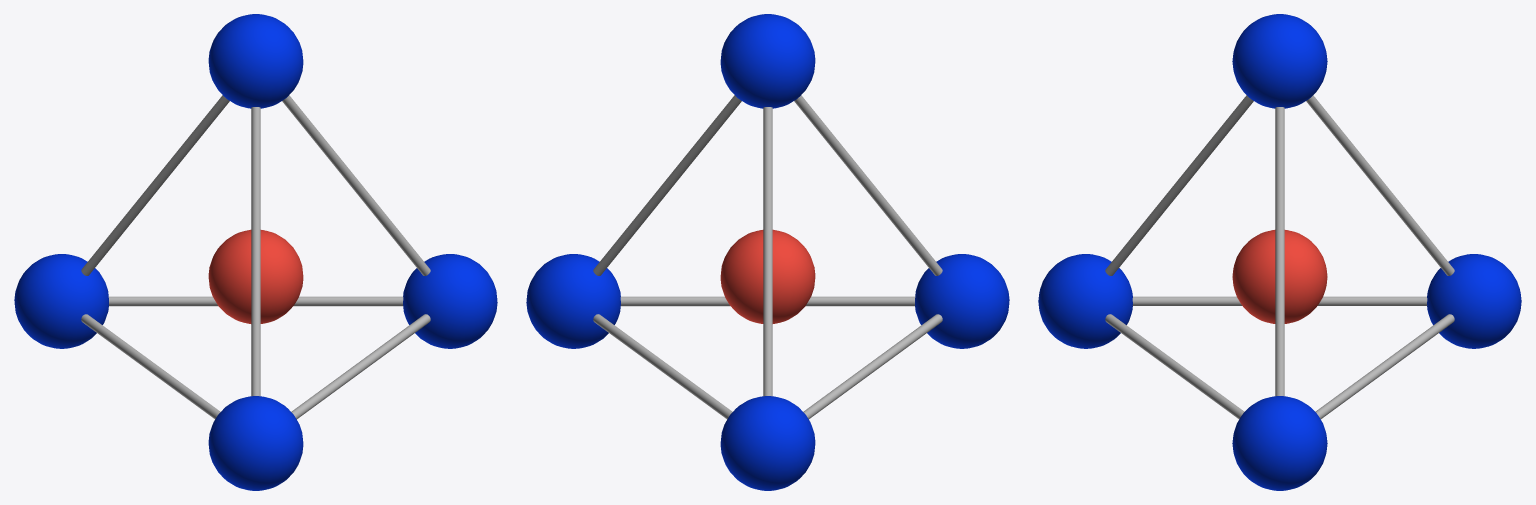
File: Material Tetrahedron.glb
3 renders of one model, left to right at view 1: azimuth 30°, elevation 25°; view 2: azimuth 150°, elevation 25°; view 3: azimuth 270°, elevation 25°, orthographic.
Parts seen in each view (by area): view 1: Tetrahedron.001; view 2: Tetrahedron.001; view 3: Tetrahedron.001.
Part boxes in pixels (bbox=[...]): Tetrahedron.001: bbox=[14, 14, 497, 490]; Tetrahedron.001: bbox=[526, 14, 1009, 490]; Tetrahedron.001: bbox=[1038, 14, 1521, 490].
Size of the model in its own units: 1.81 by 1.73 by 2.03.
